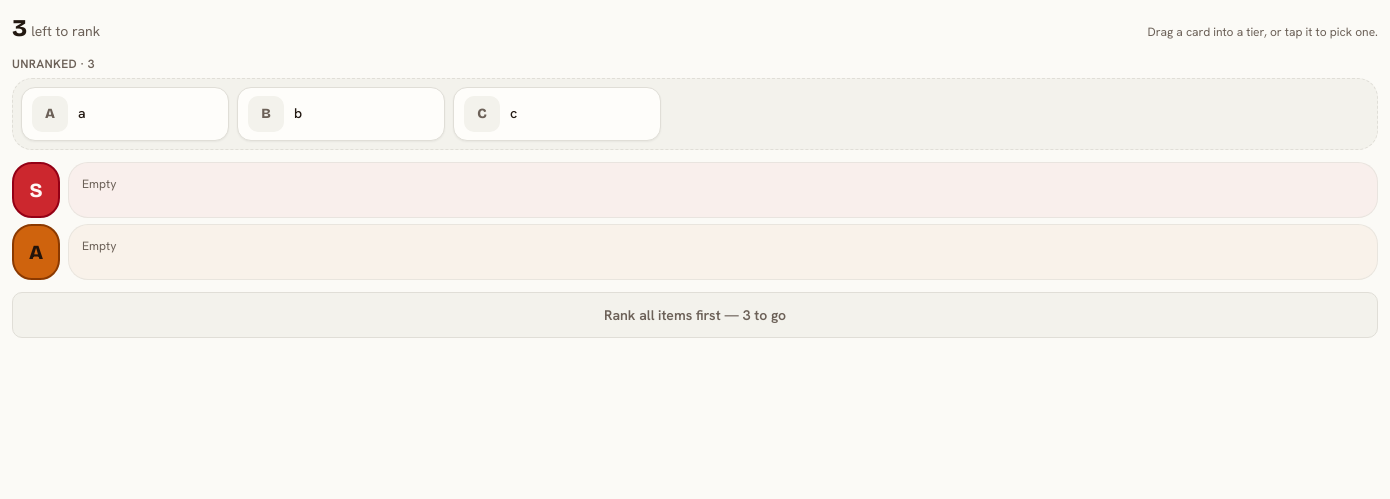
Test case: <RankingBoard> completion › ranking every item shows the completion state and a submit control
This screenshot has width=1390, height=499.
Click the button "A a" at coordinates (125, 114), box [21,87,229,141]
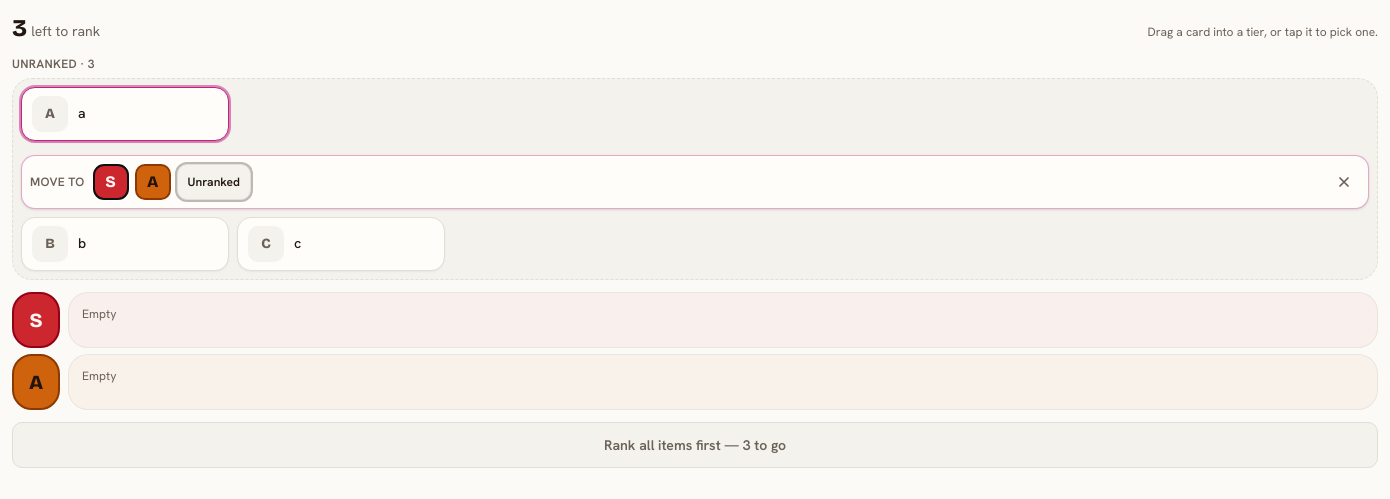
Click the button named "tier S" at coordinates (111, 182), box [93,164,129,200]
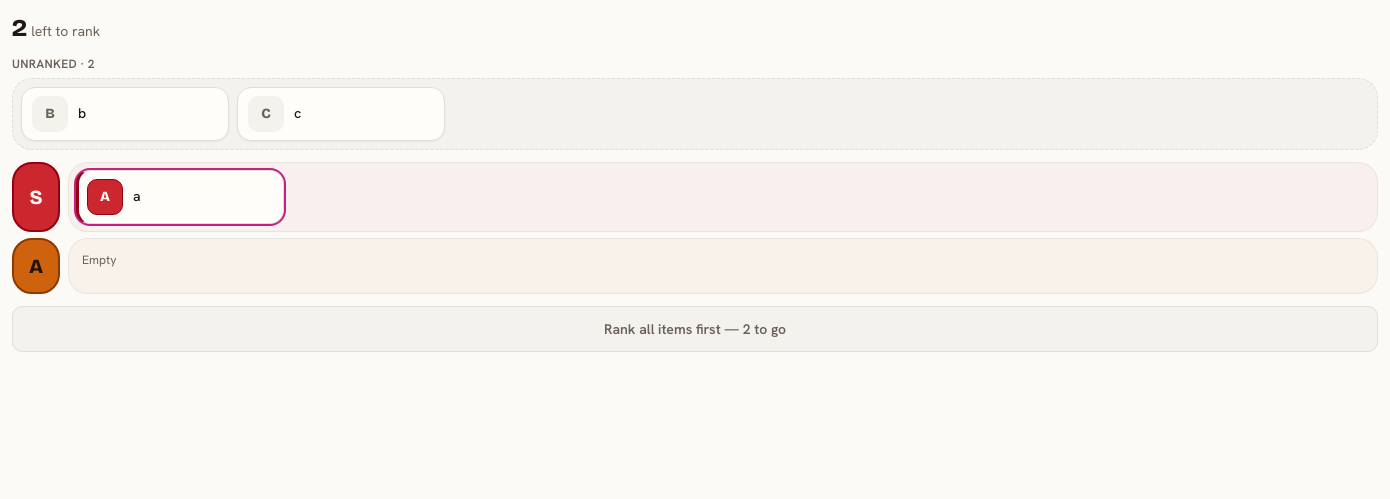
Click the button "B b" at coordinates (125, 114), box [21,87,229,141]
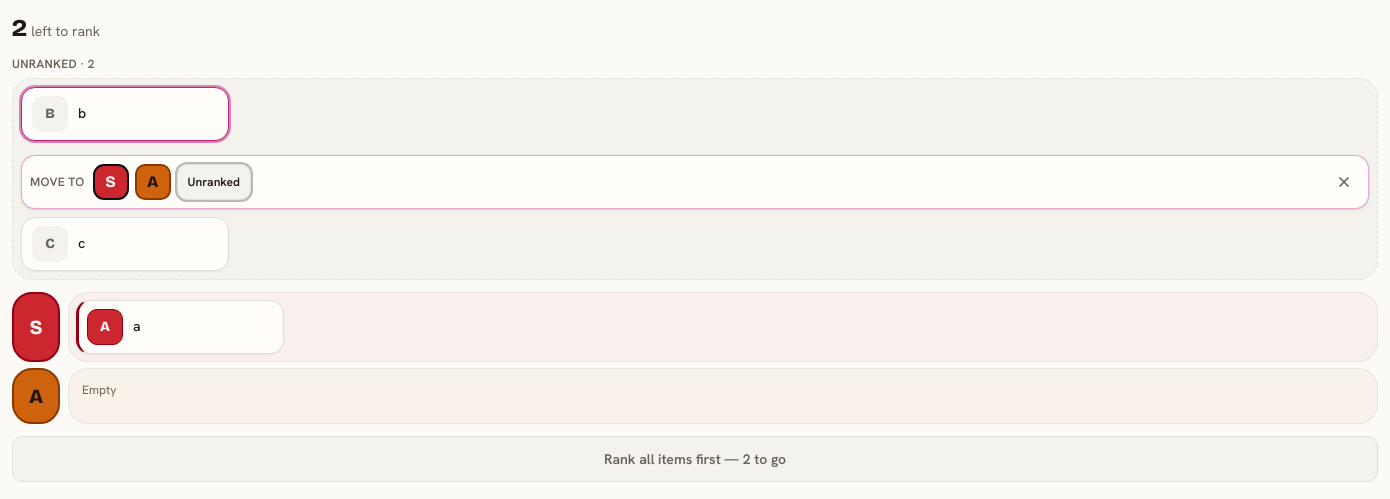
Click the button named "tier S" at coordinates (111, 182), box [93,164,129,200]
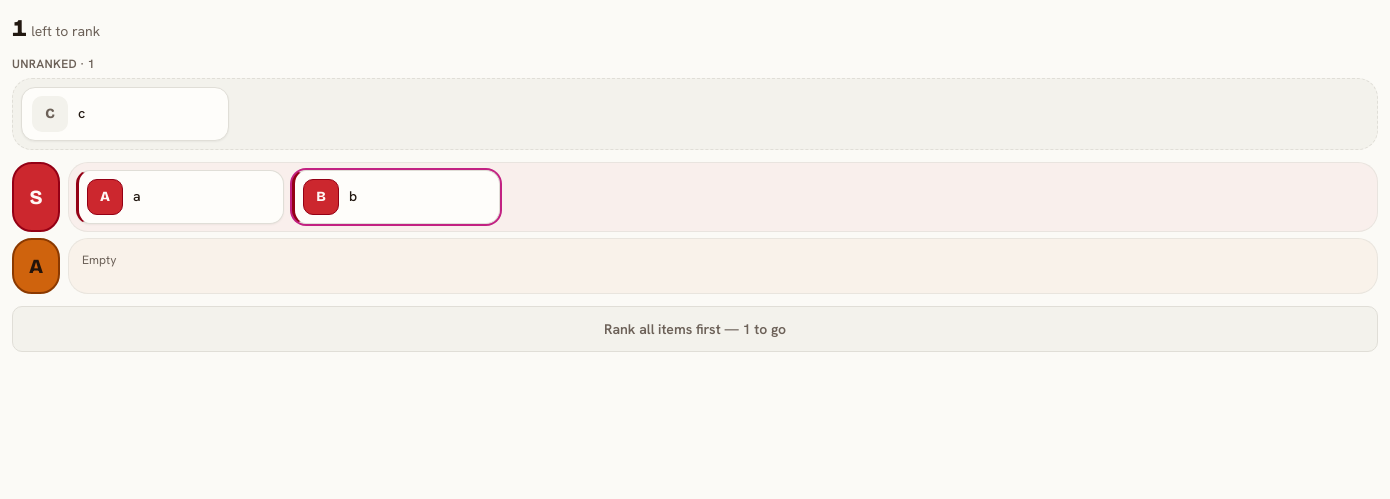
Click the button "C c" at coordinates (125, 114), box [21,87,229,141]
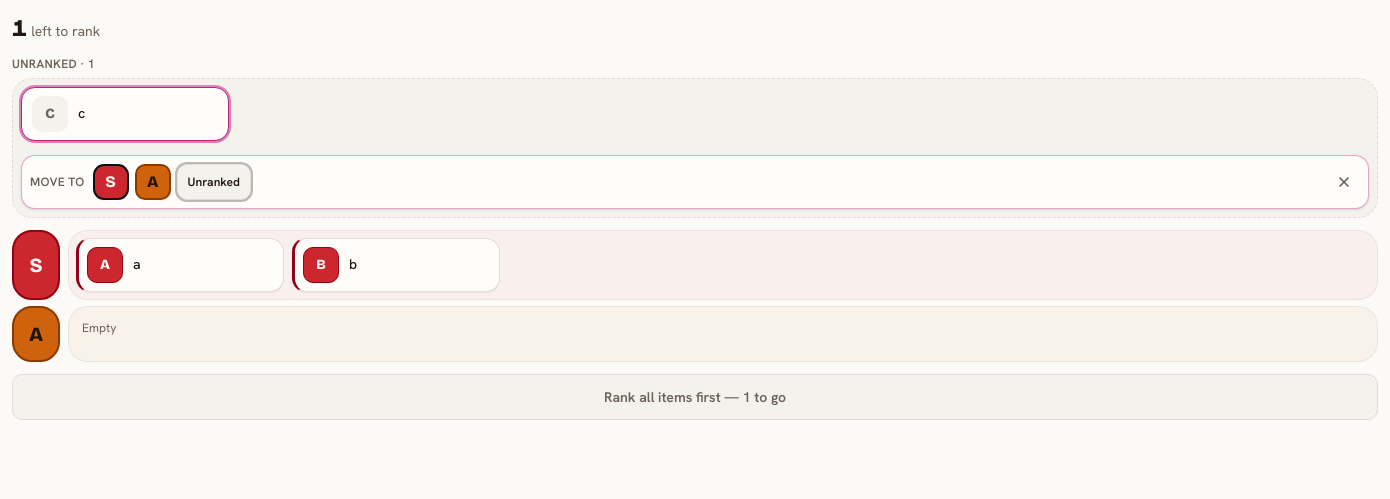
Click the button named "tier S" at coordinates (111, 182), box [93,164,129,200]
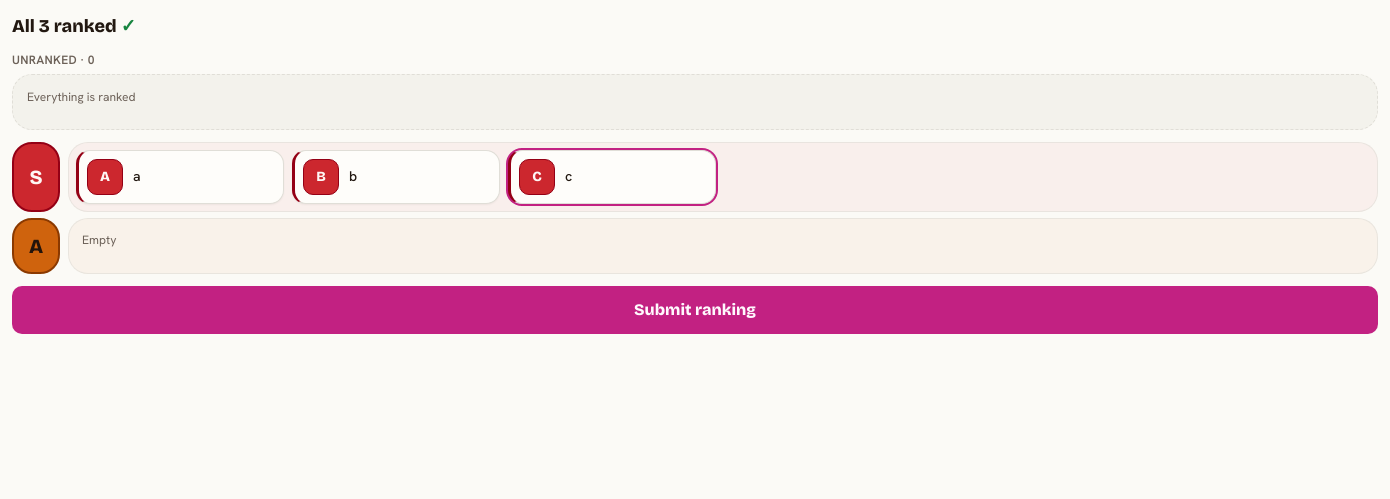
Expected: the text "All 3 ranked ✓" is shown, [12,15,136,37]
Expected: the heading "Unranked · 0" is shown, [12,52,95,68]
Expected: the button "Submit ranking" is shown, [12,286,1378,334]
